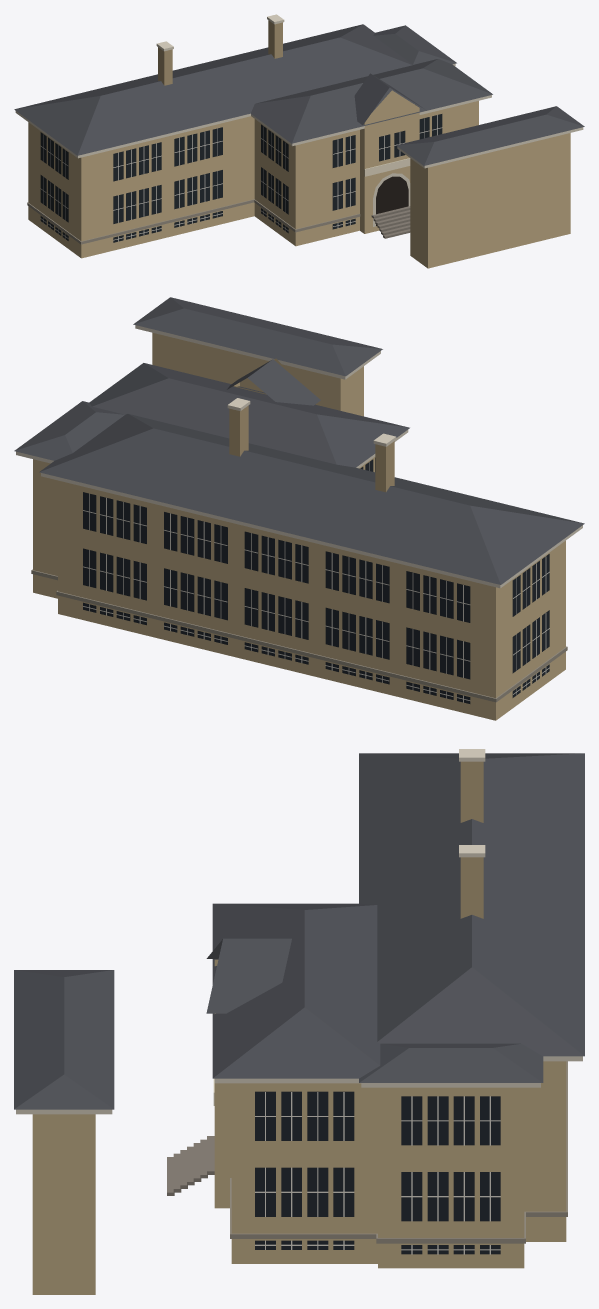
The model's file is rightsell-school-1961.glb.
3 views of the same model, one above another, from view 1: azimuth 30°, elevation 25°; view 2: azimuth 150°, elevation 25°; view 3: azimuth 270°, elevation 25° (orthographic). The views are drawn at different scales.
Parts seen in each view (by area): view 1: rightsell_brick, rightsell_slate, rightsell_glass, rightsell_trim, rightsell_sash, rightsell_stone, rightsell_brick2, rightsell_dark, rightsell_base, rightsell_cream; view 2: rightsell_slate, rightsell_brick, rightsell_glass, rightsell_sash, rightsell_trim, rightsell_stone, rightsell_brick2; view 3: rightsell_slate, rightsell_brick, rightsell_glass, rightsell_trim, rightsell_brick2, rightsell_stone, rightsell_sash, rightsell_base.
Boxes of the visible parts, x1,y1,x2,y2 form: rightsell_brick: (28, 90, 570, 268); rightsell_slate: (14, 24, 584, 165); rightsell_glass: (40, 114, 442, 242); rightsell_trim: (15, 14, 583, 226); rightsell_sash: (40, 115, 442, 241); rightsell_stone: (27, 199, 360, 244); rightsell_brick2: (158, 20, 282, 85); rightsell_dark: (376, 176, 408, 225); rightsell_base: (371, 206, 410, 238); rightsell_cream: (364, 158, 410, 176); rightsell_slate: (14, 297, 584, 584); rightsell_brick: (33, 332, 565, 720); rightsell_glass: (83, 458, 549, 703); rightsell_sash: (83, 462, 549, 702); rightsell_trim: (16, 325, 582, 588); rightsell_stone: (31, 569, 567, 702); rightsell_brick2: (229, 405, 394, 492); rightsell_slate: (14, 753, 584, 1109); rightsell_brick: (32, 959, 566, 1294); rightsell_glass: (255, 1091, 500, 1254); rightsell_trim: (16, 749, 582, 1114); rightsell_brick2: (460, 761, 483, 918); rightsell_stone: (230, 1061, 567, 1243); rightsell_sash: (255, 1092, 500, 1254); rightsell_base: (167, 1136, 214, 1195).
Size of the model in its own units: 40.3 by 15.67 by 27.3.
